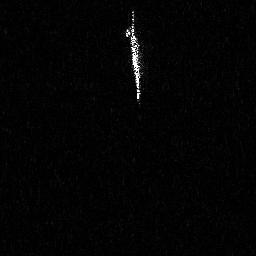ship: (125, 9, 146, 108)
